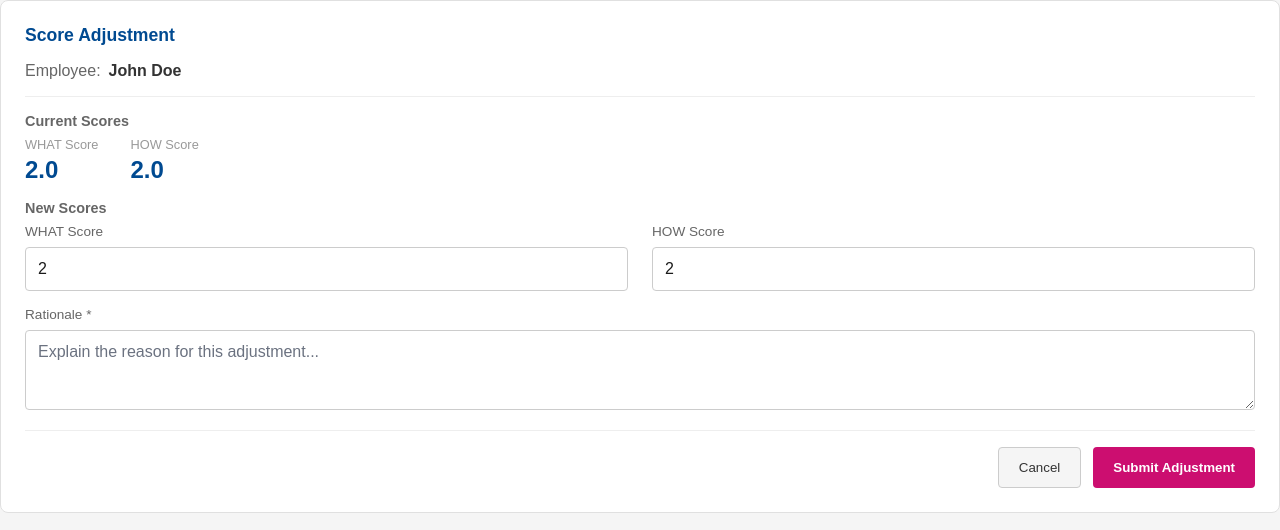
Test: ScoreAdjustmentPanel › score change indicator › should show change indicator when WHAT score differs
Replace the text in the number field named "whatScore" with "2.5": (326, 269) top-left (25, 247), bottom-right (628, 291)
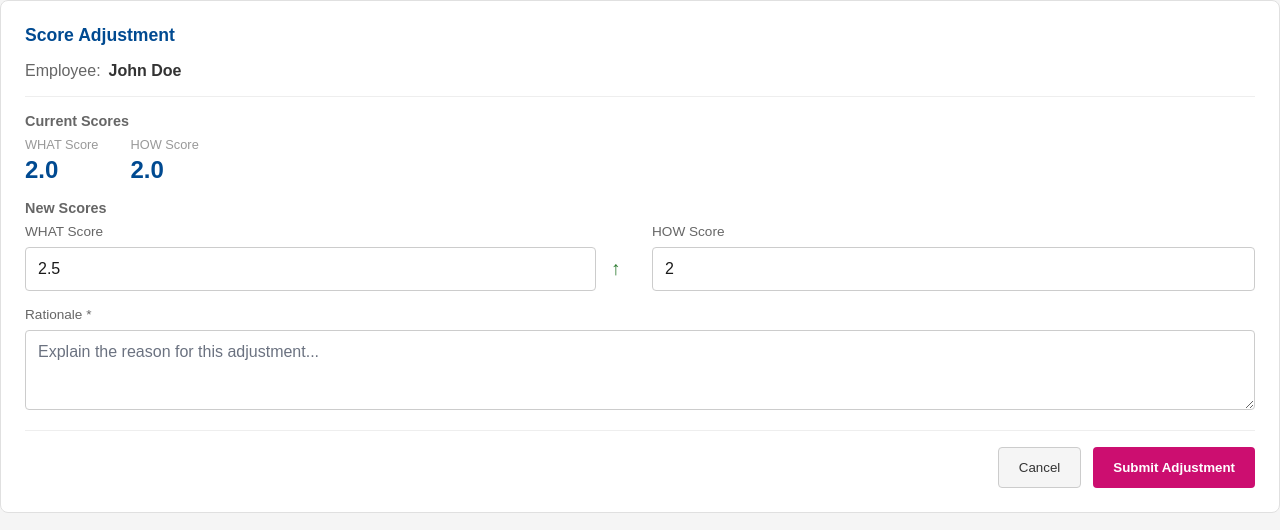
Check: the text "↑" is shown, box top-left (611, 258), bottom-right (621, 279)
